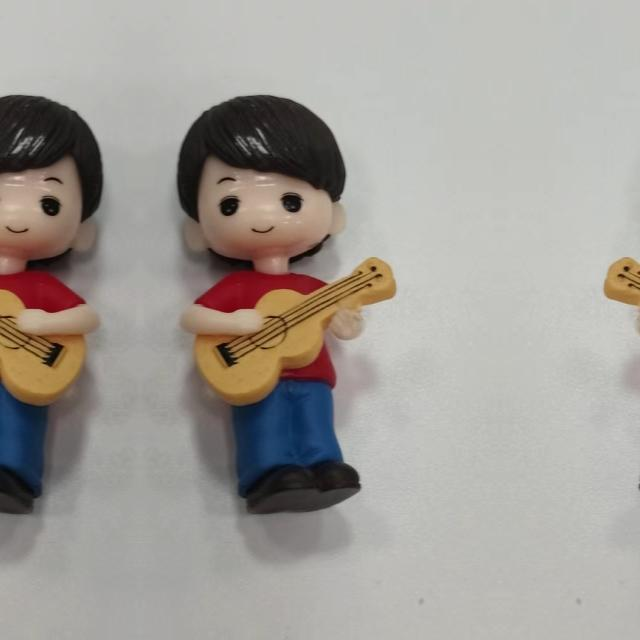man cloth: (178, 272, 366, 384), (0, 271, 101, 384), (634, 271, 640, 384)
man head: (166, 89, 354, 273), (0, 89, 113, 273)
trousers: (222, 380, 368, 520), (0, 379, 57, 520), (632, 379, 640, 520)
